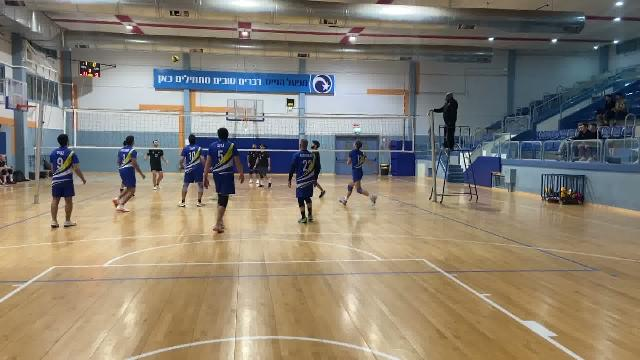ball: (170, 54, 181, 65)
